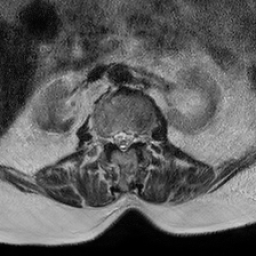CCS_normal: (120, 124, 126, 157)
LFS_normal: (134, 123, 144, 148)
LLS_normal: (126, 125, 134, 150)
RFS_stenosis: (104, 125, 112, 149)
RLS_normal: (112, 123, 120, 149)
